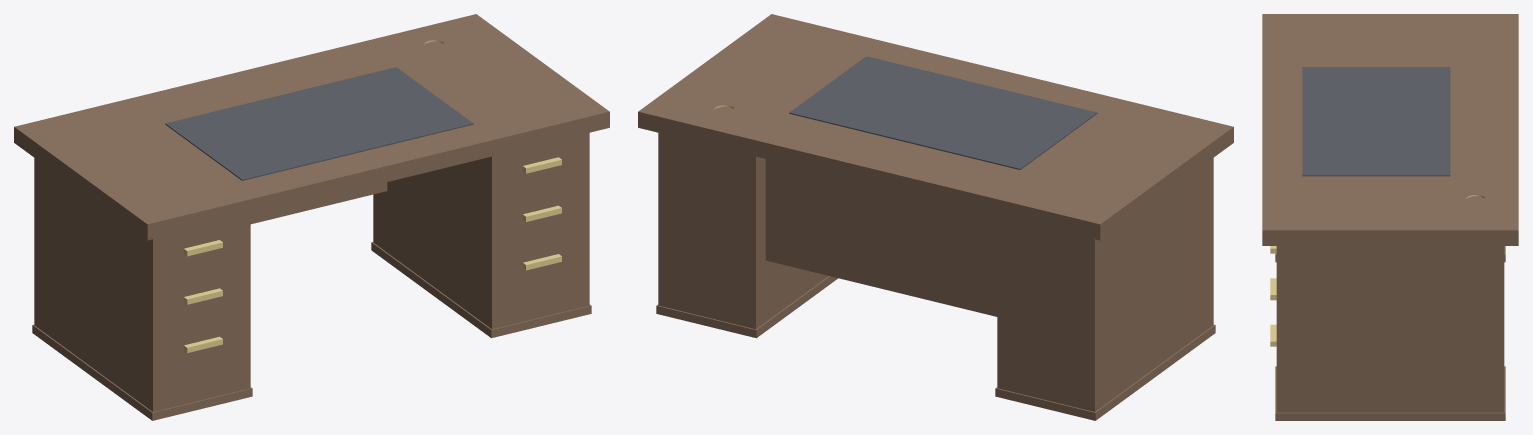
File: EXEC_DESK001.glb
3 views of the same model, side by side, from view 1: azimuth 30°, elevation 25°; view 2: azimuth 150°, elevation 25°; view 3: azimuth 270°, elevation 25° (orthographic). The views are drawn at different scales.
Parts seen in each view (by area): view 1: FurnitureRoot; view 2: FurnitureRoot; view 3: FurnitureRoot.
Boxes of the visible parts, <box> form: FurnitureRoot: <box>14,14,609,420</box>; FurnitureRoot: <box>638,14,1233,420</box>; FurnitureRoot: <box>1262,14,1518,420</box>.
Bounding box in the file's own units: 180 × 76.5 × 90.
